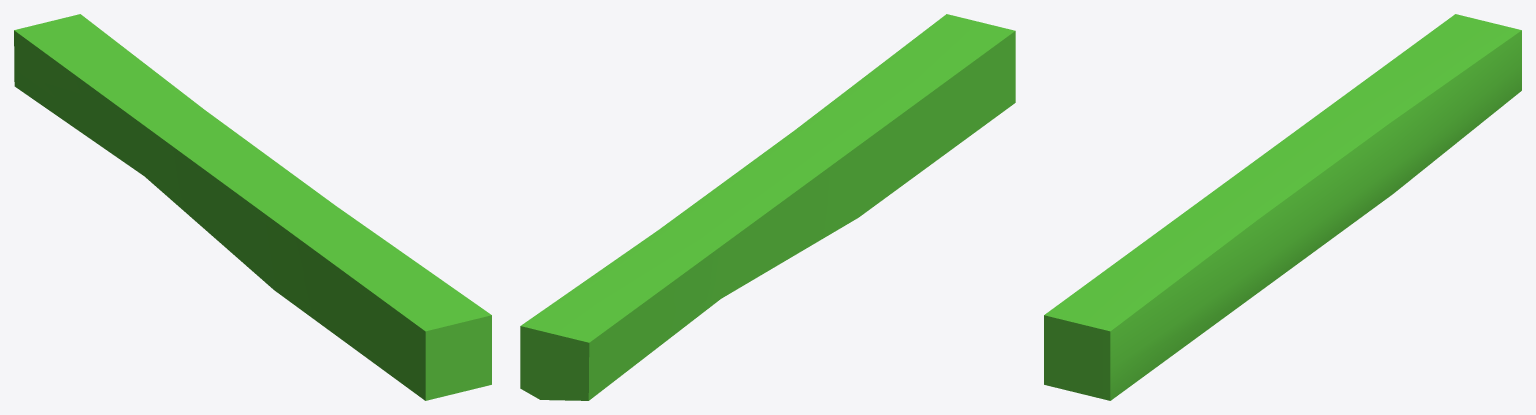
The model's file is Beam_Roof_01.fbx.
3 renders of one model, left to right at view 1: azimuth 30°, elevation 25°; view 2: azimuth 150°, elevation 25°; view 3: azimuth 330°, elevation 25°, orthographic. The views are drawn at different scales.
Visible parts, largest first — view 1: Beam_Roof_01; view 2: Beam_Roof_01; view 3: Beam_Roof_01.
Boxes of the visible parts, x1,y1,x2,y2 form: Beam_Roof_01: [14, 14, 491, 400]; Beam_Roof_01: [520, 14, 1015, 400]; Beam_Roof_01: [1044, 14, 1521, 400].
Bounding box in the file's own units: 12.61 × 11.88 × 127.
